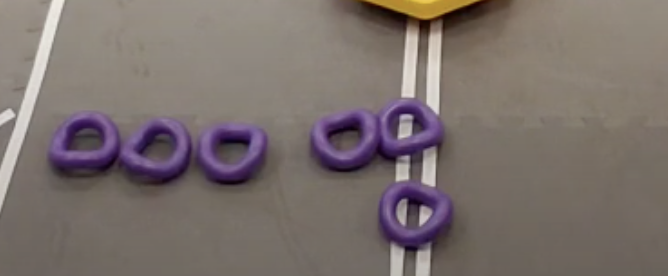ring: (379, 180, 452, 245), (120, 116, 193, 179), (48, 110, 119, 172), (310, 109, 379, 170), (376, 96, 444, 157), (198, 123, 267, 182)
